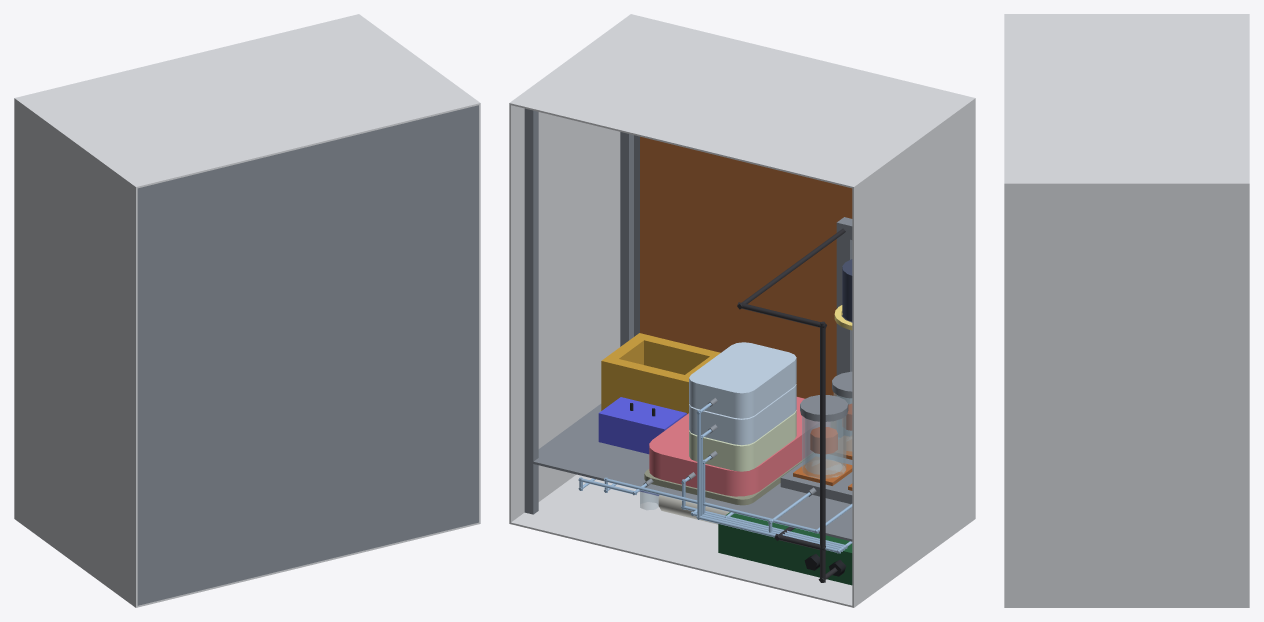
Rendered from MOD-bioreactor.glb.
3 views of the same model, side by side, from view 1: azimuth 30°, elevation 25°; view 2: azimuth 150°, elevation 25°; view 3: azimuth 270°, elevation 25° (orthographic).
Parts seen in each view (by area): view 1: housing__back_panel_bay_interface, housing__side_panel_L, housing__top_panel, housing__bottom_panel, housing__side_panel_R; view 2: housing__side_panel_L, housing__top_panel, thermal__cold_wall_to_the_bay_s_thermoelectric_block, housing__side_panel_R, housing__bottom_panel, housing__shelf_1, store__insulated_aliquot_pocket, fluid__rinse_buffer_87_mL, housing__corner_post_4, fluid__Medium_250_mL, electronics__controller_enclosure_boards_data_storage, sensor__optical_O2_pH_reader (+14 smaller); view 3: housing__side_panel_R, housing__top_panel, housing__bottom_panel.
Part boxes in pixels (x1=…): housing__back_panel_bay_interface: x1=137, y1=105, x2=478, y2=605; housing__side_panel_L: x1=14, y1=100, x2=137, y2=605; housing__top_panel: x1=14, y1=14, x2=480, y2=188; housing__bottom_panel: x1=14, y1=517, x2=480, y2=607; housing__side_panel_R: x1=479, y1=105, x2=480, y2=522; housing__side_panel_L: x1=852, y1=100, x2=975, y2=605; housing__top_panel: x1=509, y1=14, x2=975, y2=188; thermal__cold_wall_to_the_bay_s_thermoelectric_block: x1=640, y1=136, x2=852, y2=428; housing__side_panel_R: x1=509, y1=105, x2=620, y2=522; housing__bottom_panel: x1=509, y1=474, x2=975, y2=607; housing__shelf_1: x1=524, y1=404, x2=852, y2=541; store__insulated_aliquot_pocket: x1=601, y1=333, x2=720, y2=414; fluid__rinse_buffer_87_mL: x1=689, y1=342, x2=796, y2=418; housing__corner_post_4: x1=524, y1=108, x2=538, y2=514; fluid__Medium_250_mL: x1=649, y1=397, x2=829, y2=496; electronics__controller_enclosure_boards_data_storage: x1=718, y1=512, x2=852, y2=585; sensor__optical_O2_pH_reader: x1=598, y1=397, x2=686, y2=454; housing__side_panel_R: x1=1004, y1=185, x2=1249, y2=606; housing__top_panel: x1=1004, y1=14, x2=1249, y2=185; housing__bottom_panel: x1=1004, y1=606, x2=1249, y2=607.
Bounding box in the file's own units: 0.313 × 0.3652 × 0.1913.
